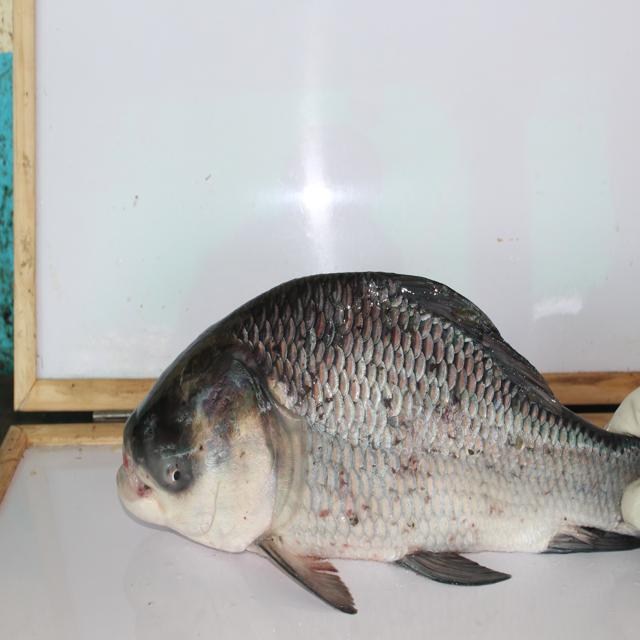Catla: (103, 263, 640, 616)
